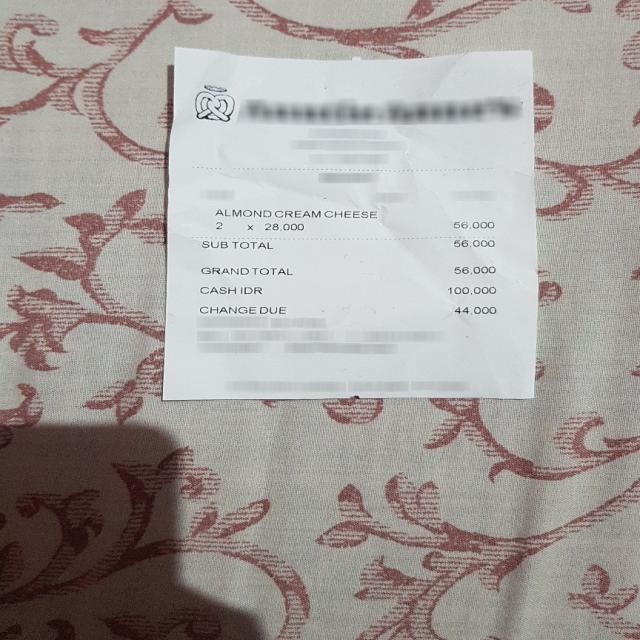kertas: (163, 47, 540, 404)
